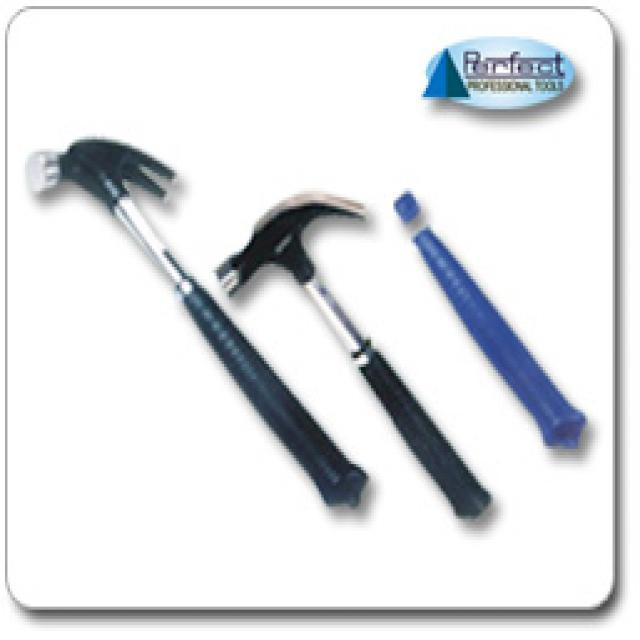hammer: (19, 119, 368, 524), (207, 176, 496, 531)
